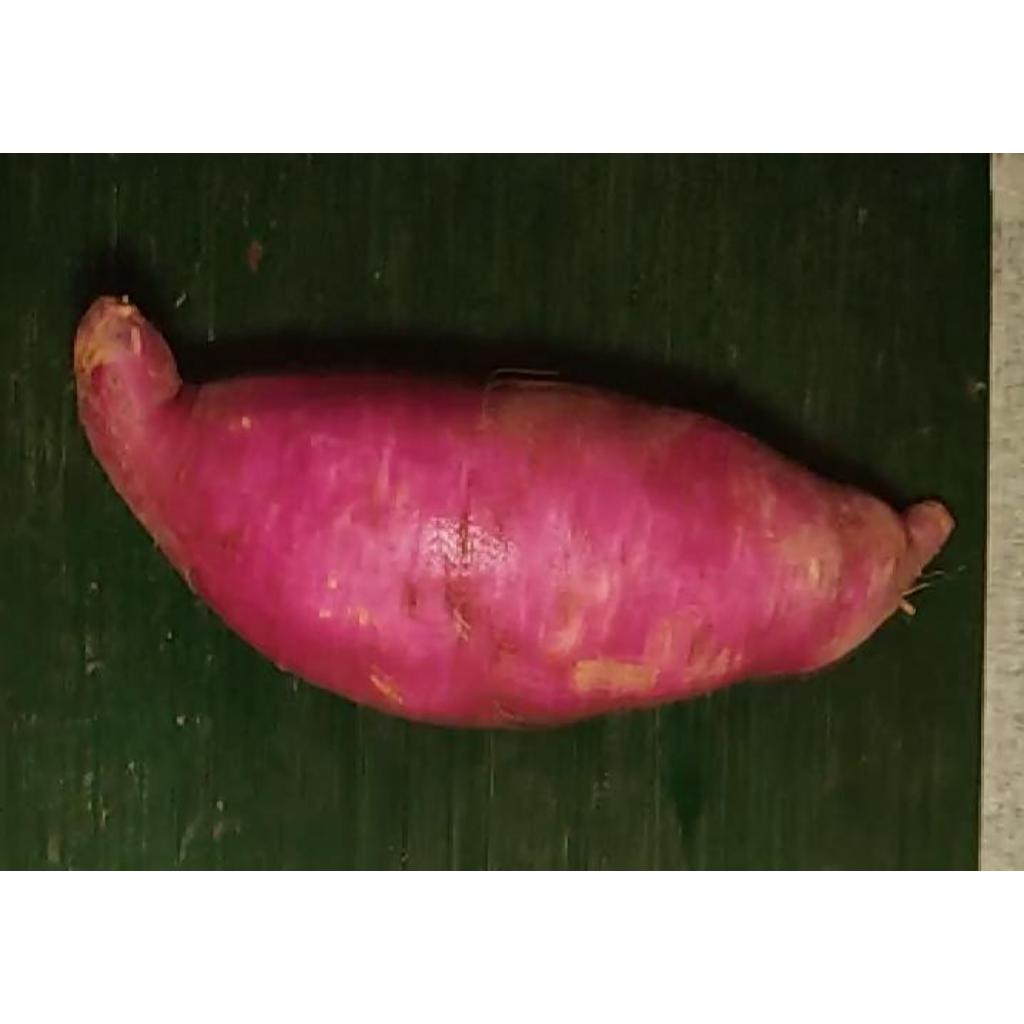Sweet Potato: (71, 296, 950, 731)
